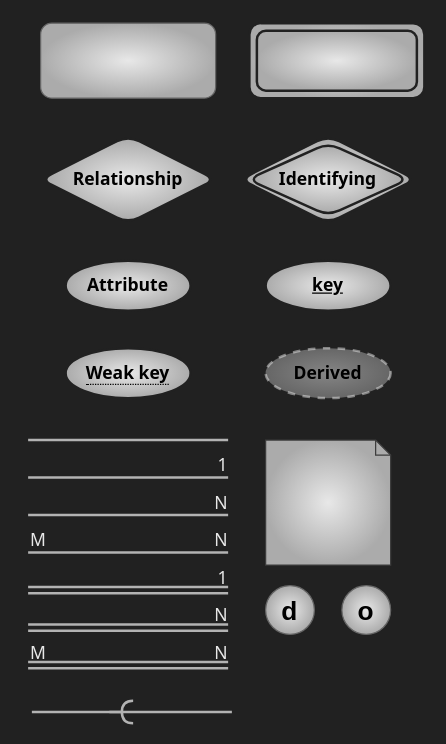
Image size: 446x744. Some labels were removed from this diagram. Each missing label, with the centre of its shape:
"Entity" belongs at point 127,60.
"Note" belongs at point 327,502.
"Weak Entity" belongs at point 336,60.
